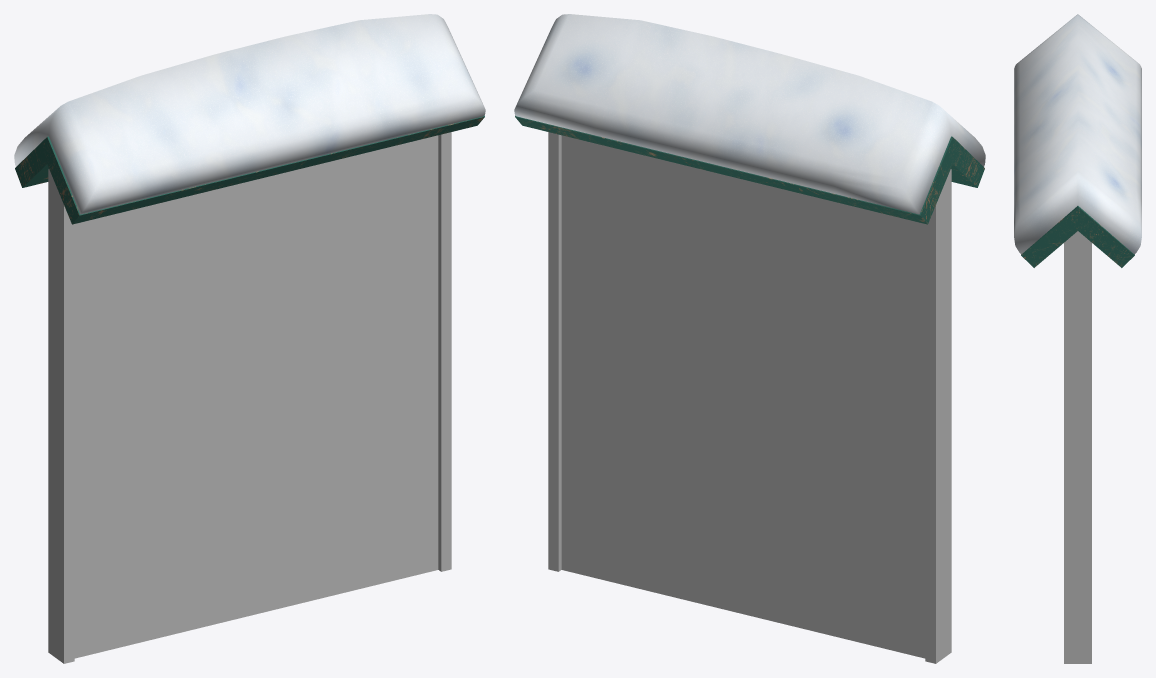
The model's file is entrance_sign.fbx.
3 renders of one model, left to right at view 1: azimuth 30°, elevation 25°; view 2: azimuth 150°, elevation 25°; view 3: azimuth 270°, elevation 25°, orthographic. The views are drawn at different scales.
Visible parts, largest first — view 1: entrance_sign; view 2: entrance_sign; view 3: entrance_sign.
Boxes of the visible parts, box(x1,y1,x2,y2) form: entrance_sign: box(14, 14, 485, 663); entrance_sign: box(514, 14, 985, 663); entrance_sign: box(1014, 14, 1141, 663).
Size of the model in its own units: 278 by 371 by 86.33.
